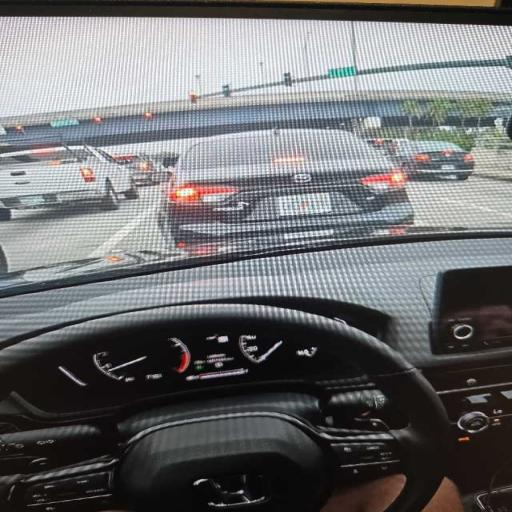car: (0, 0, 511, 511), (159, 130, 413, 247), (0, 144, 138, 220), (394, 141, 474, 180), (113, 154, 168, 184), (366, 139, 395, 155), (0, 246, 7, 274)
lane: (0, 186, 169, 270), (0, 188, 154, 270), (408, 176, 511, 228)
person: (321, 475, 405, 511)
